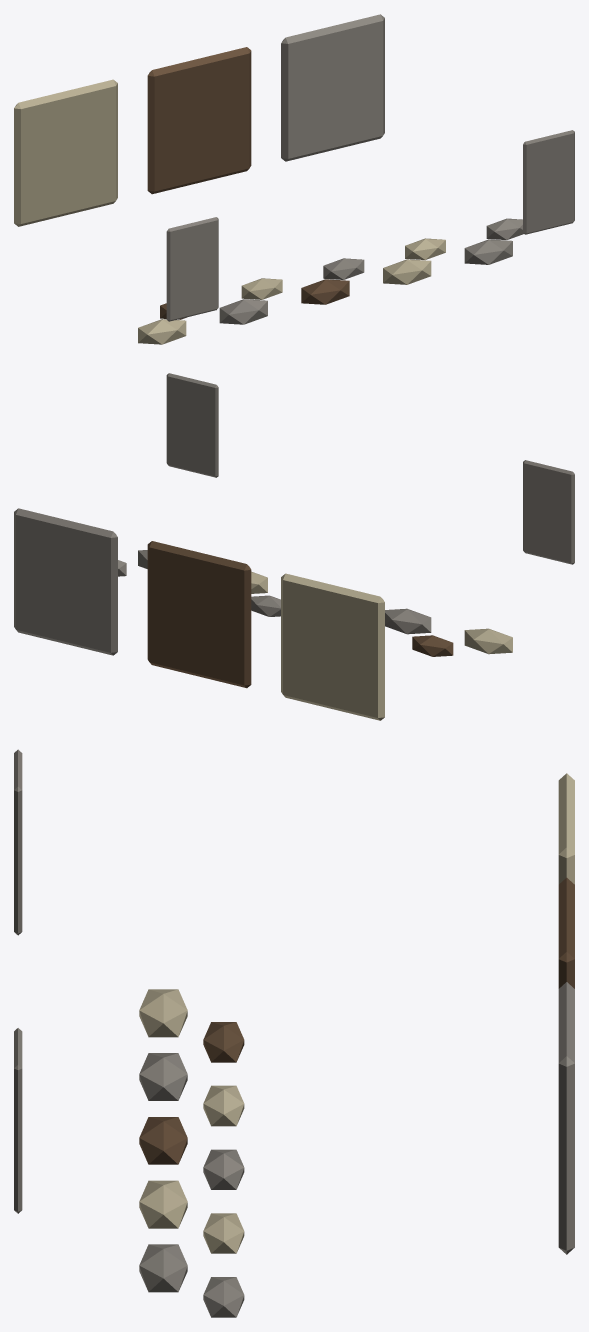
The model's file is goods_wool.glb.
3 renders of one model, top to bottom at view 1: azimuth 30°, elevation 25°; view 2: azimuth 150°, elevation 25°; view 3: azimuth 270°, elevation 25°, orthographic. The views are drawn at different scales.
Visible parts, largest first — view 1: goods_wool; view 2: goods_wool; view 3: goods_wool.
Boxes of the visible parts, x1=… form: goods_wool: x1=14, y1=14, x2=574, y2=344; goods_wool: x1=14, y1=373, x2=574, y2=720; goods_wool: x1=14, y1=749, x2=574, y2=1317.
Size of the model in its own units: 2.86 by 1.02 by 2.05.
